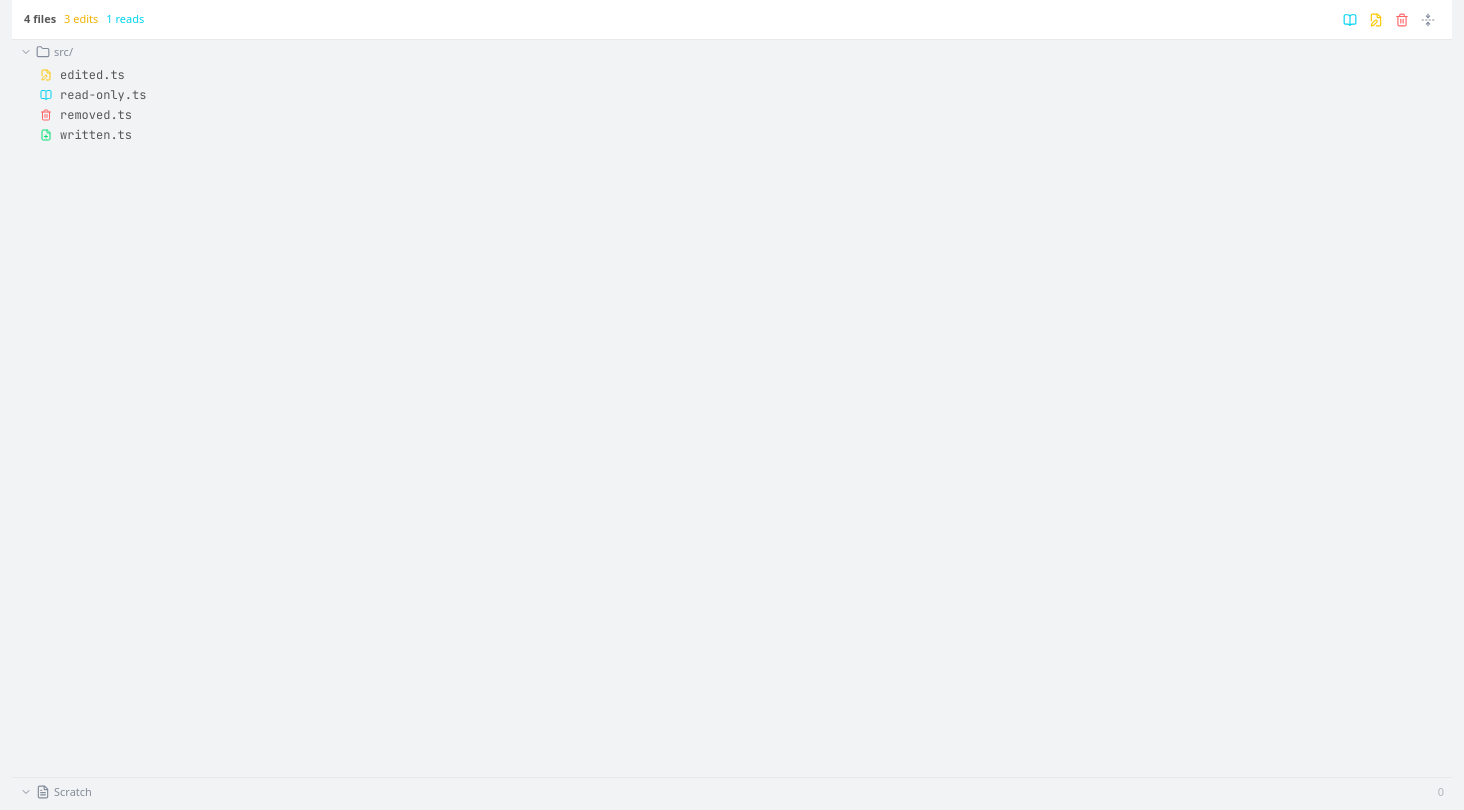
Test: FileAccessTree kind toggles › hiding edits removes both edit and write files but keeps deletes
This screenshot has width=1464, height=810.
Click the button named "Hide edits and writes" at [1376, 20], box [1364,8,1388,32]
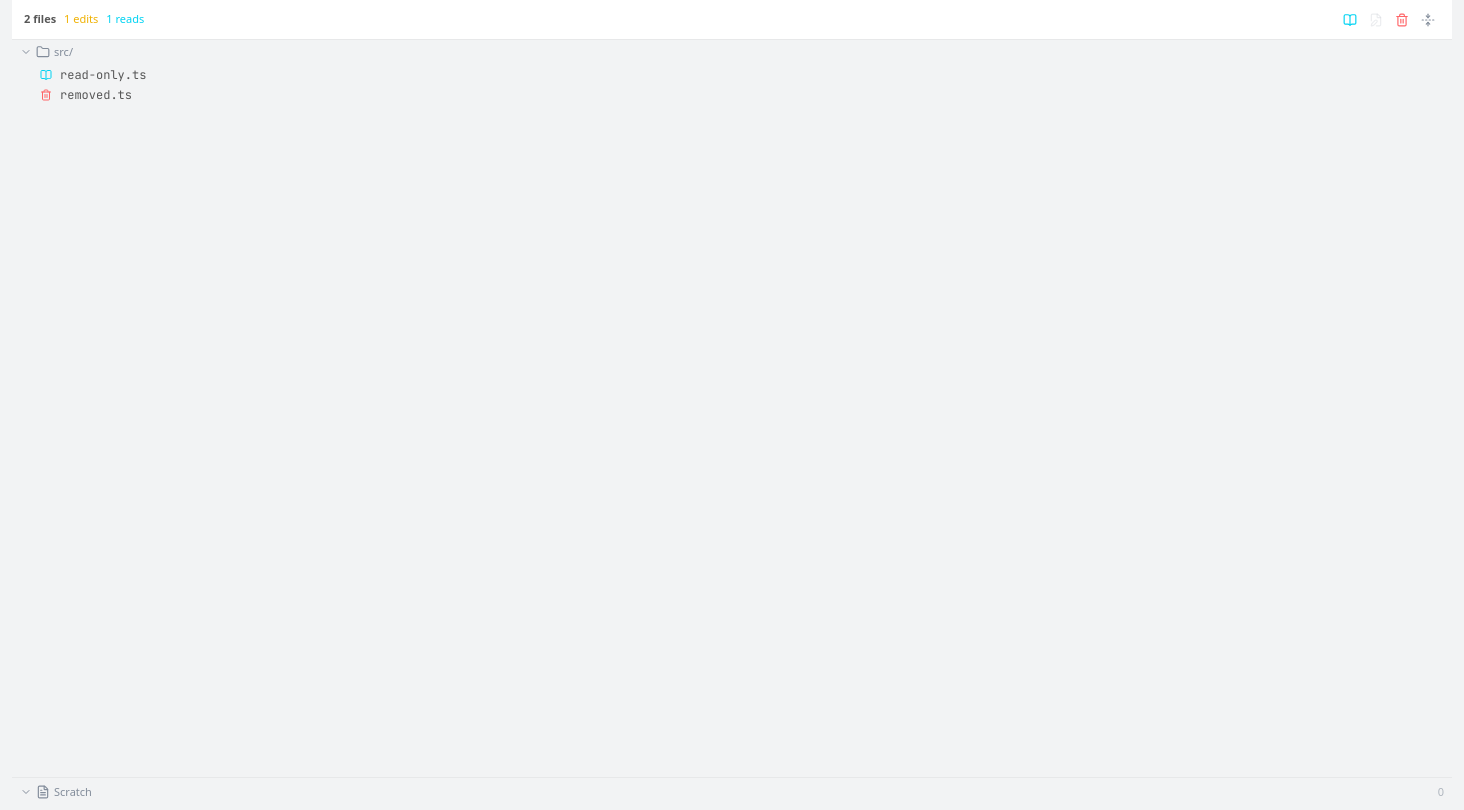
Expected: the text "removed.ts" is shown, [60,86,132,102]
Expected: the button "edited.ts" is gone
Expected: the button "written.ts" is gone
